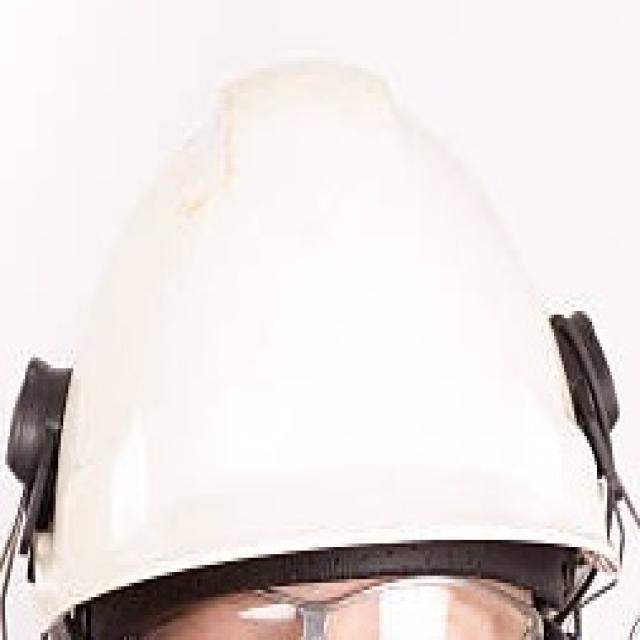helmet_white: (4, 4, 636, 636)
